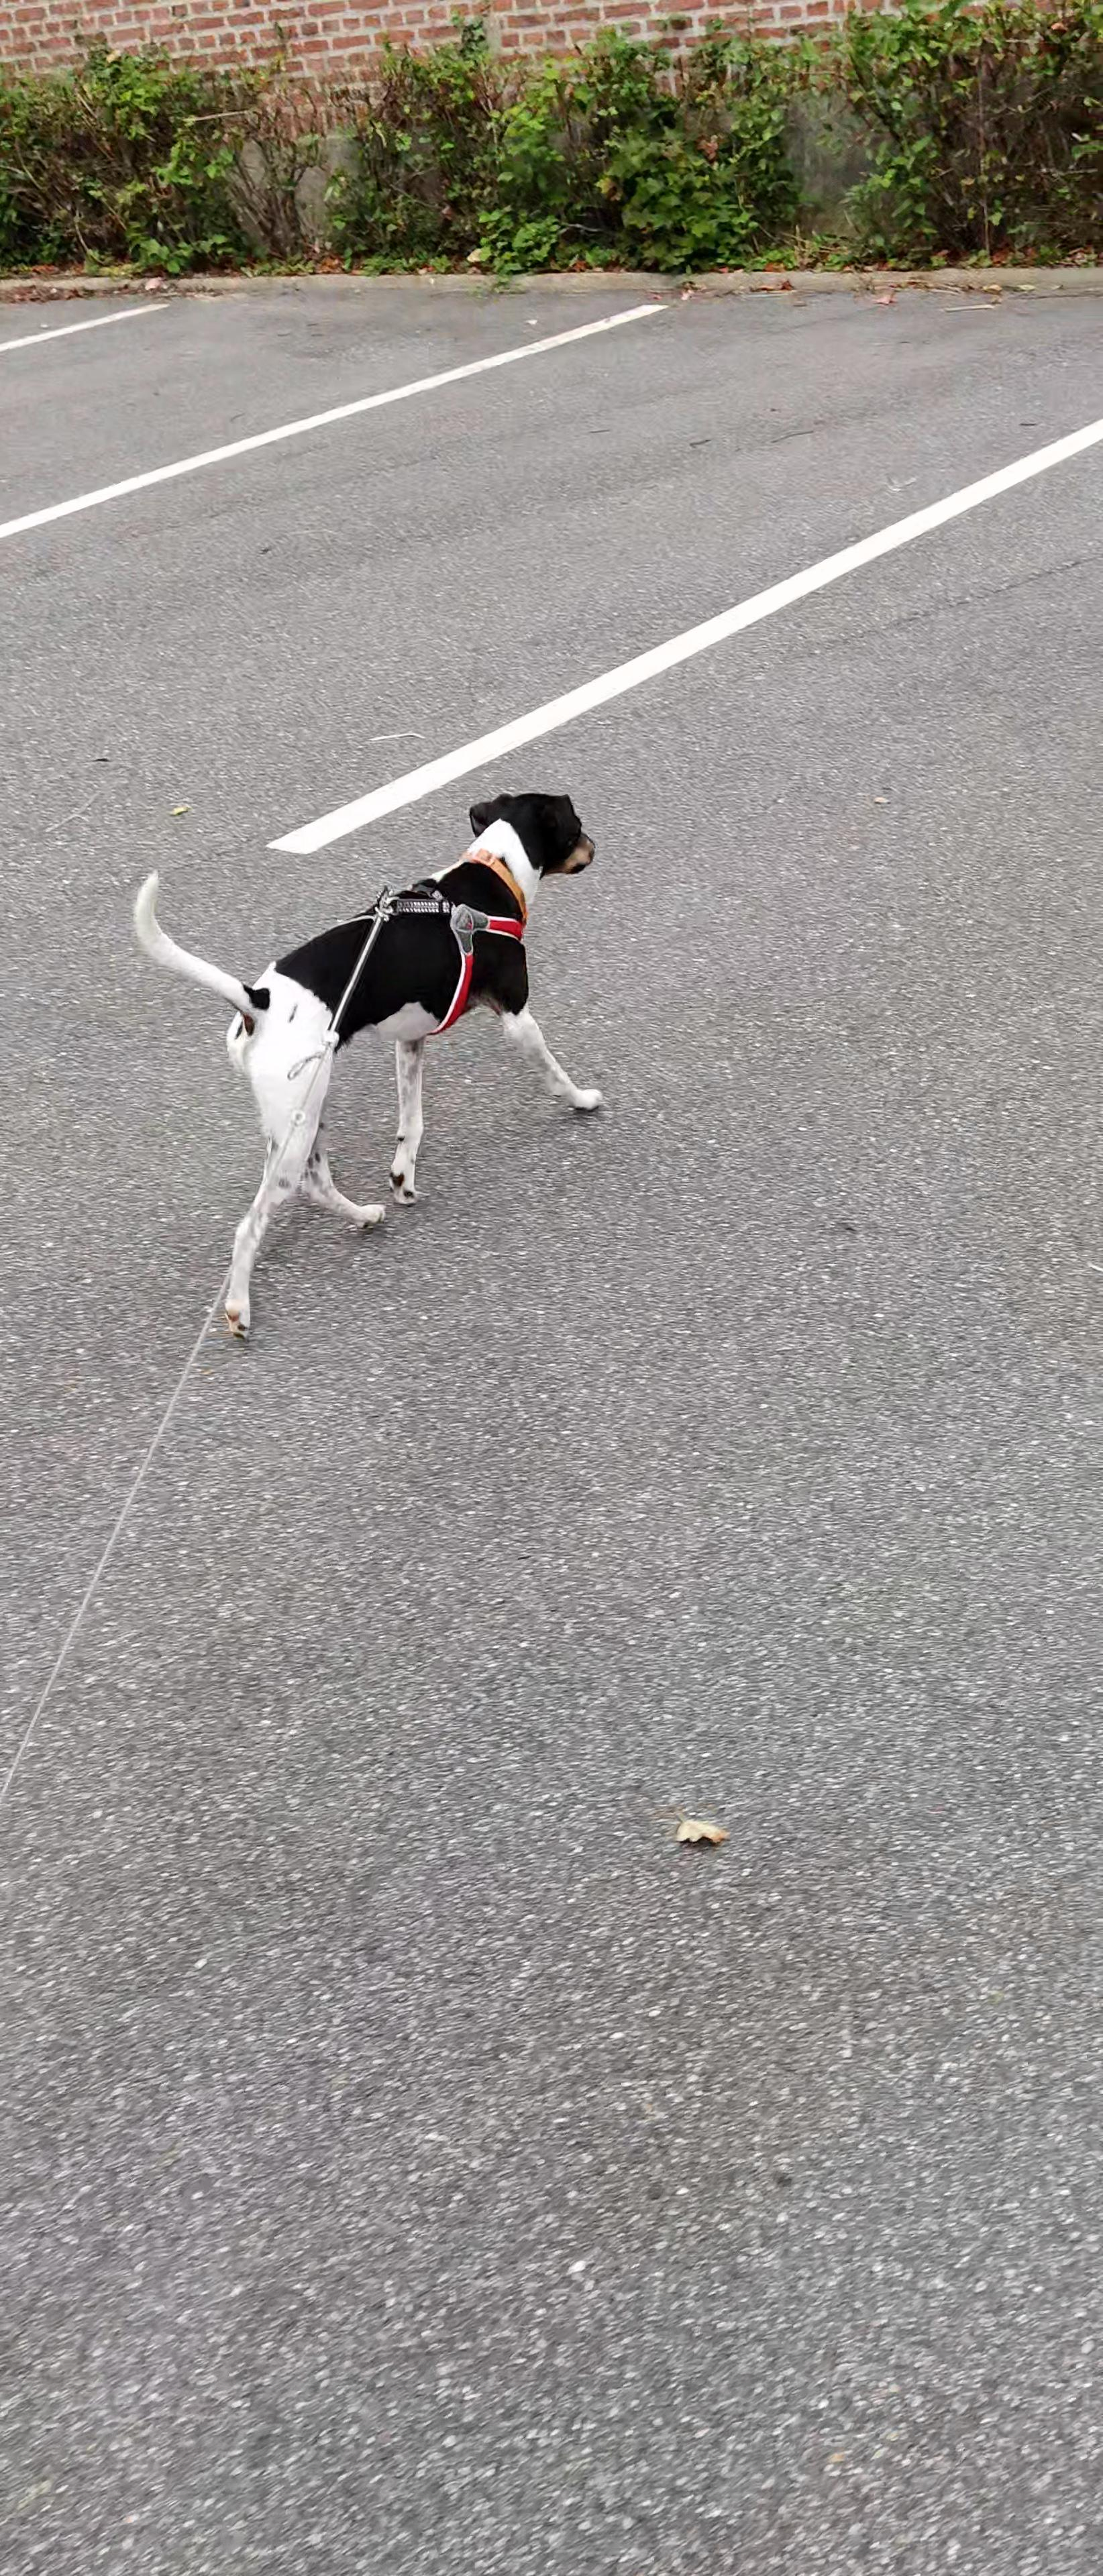Dog: (127, 793, 610, 1344)
